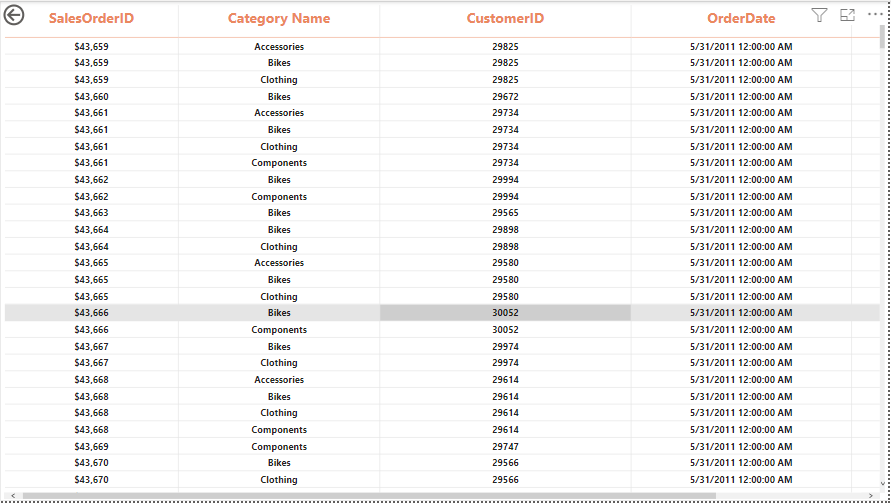

The dashboard page shown, as its layout file describes it:
{"tool":"powerbi","page":{"name":"Detalis","canvas":[1280,720],"ordinal":1},"visuals":[{"type":"tableEx","fields":{"Values":["Sales Orders Detail.SalesOrderID","Product.Category Name","Sales Orders Detail.CustomerID","Sales Orders Detail.OrderDate","Sales Orders Detail.Order Flag"]},"box":[0,0,1280,720.6],"z":0},{"type":"actionButton","box":[0,0,100,40],"z":1000}]}

Visuals, with their boxes on the page's 1280x720 design canvas (x1, y1, x2, y2). These are canvas units, not pixel positions in the 891x503 screenshot, which may show the page scaled, cropped or inside an application window:
tableEx - Sales Orders Detail.SalesOrderID x Product.Category Name: Rect(0, 0, 1280, 721)
actionButton: Rect(0, 0, 100, 40)
